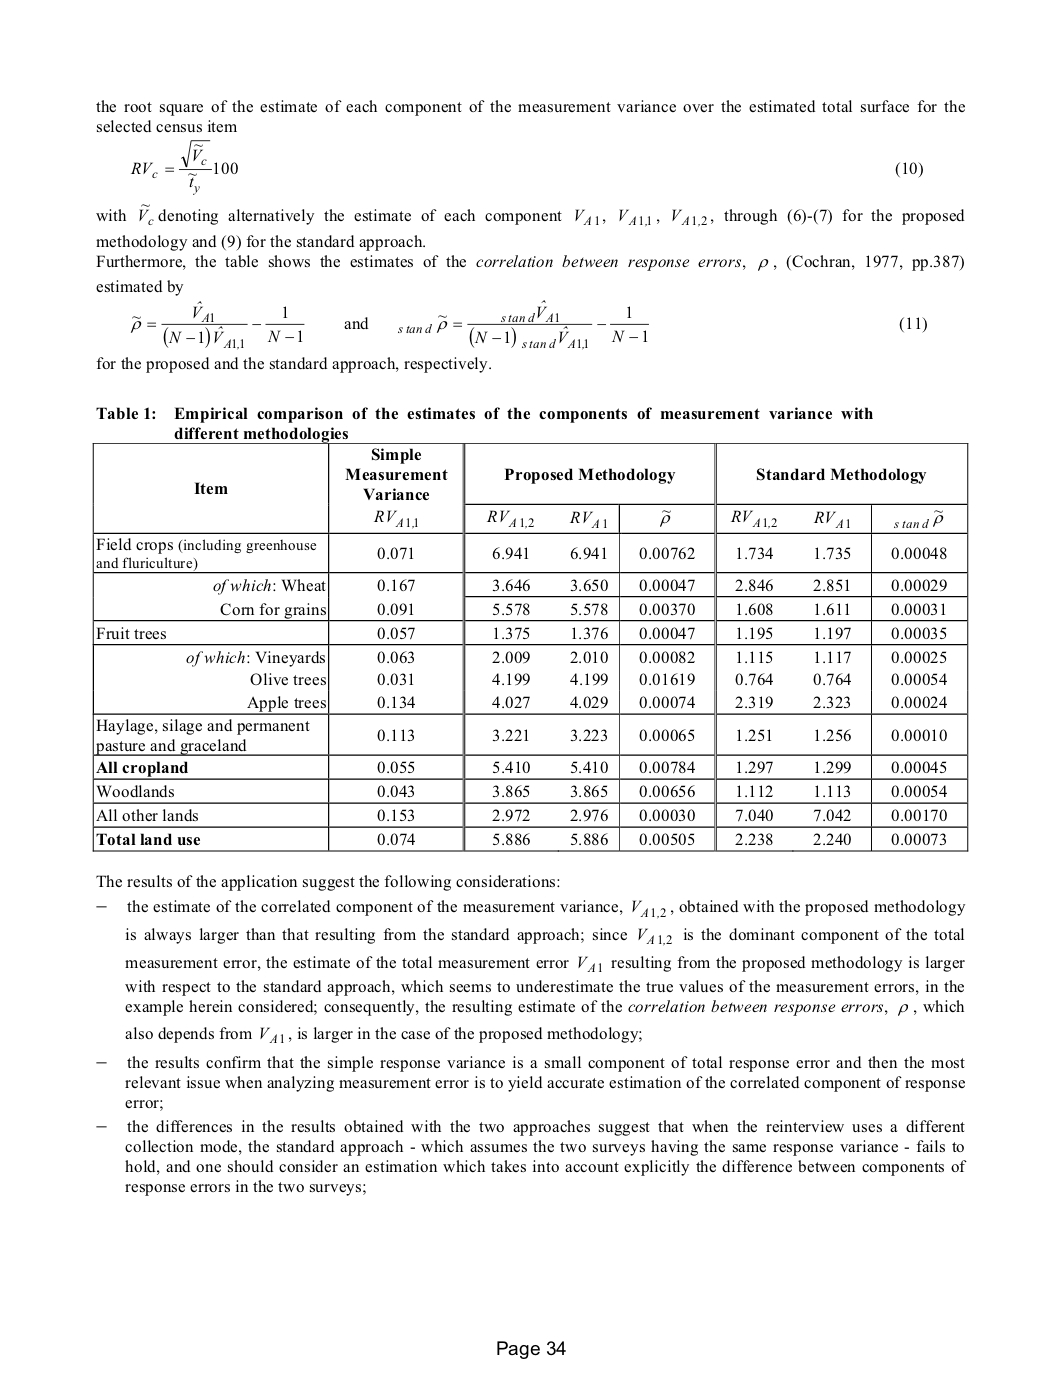Table: (93, 426, 968, 853)
formula: (130, 139, 922, 195), (130, 300, 926, 349)
